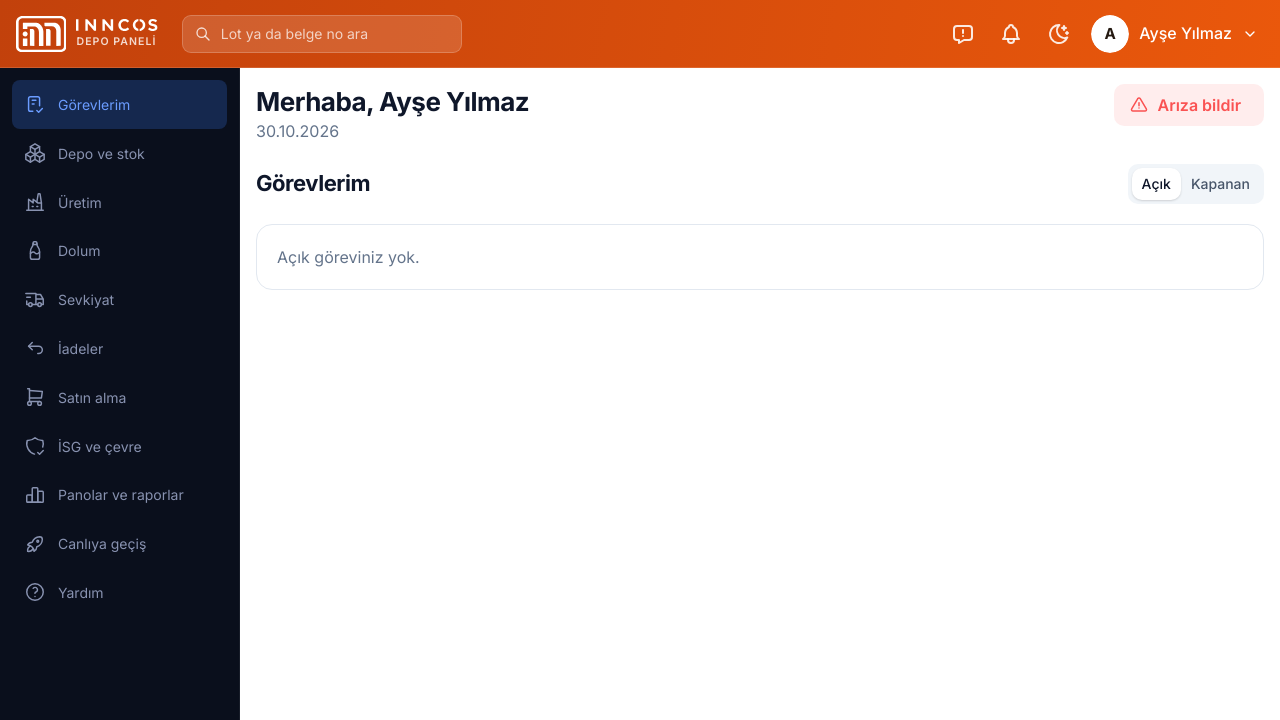
Scenario: bildirim zili › bağlantı yokken çevrimdışı işaretini gösterir
Click the button named "Bildirimler" at (1011, 34), box [989,12,1033,56]
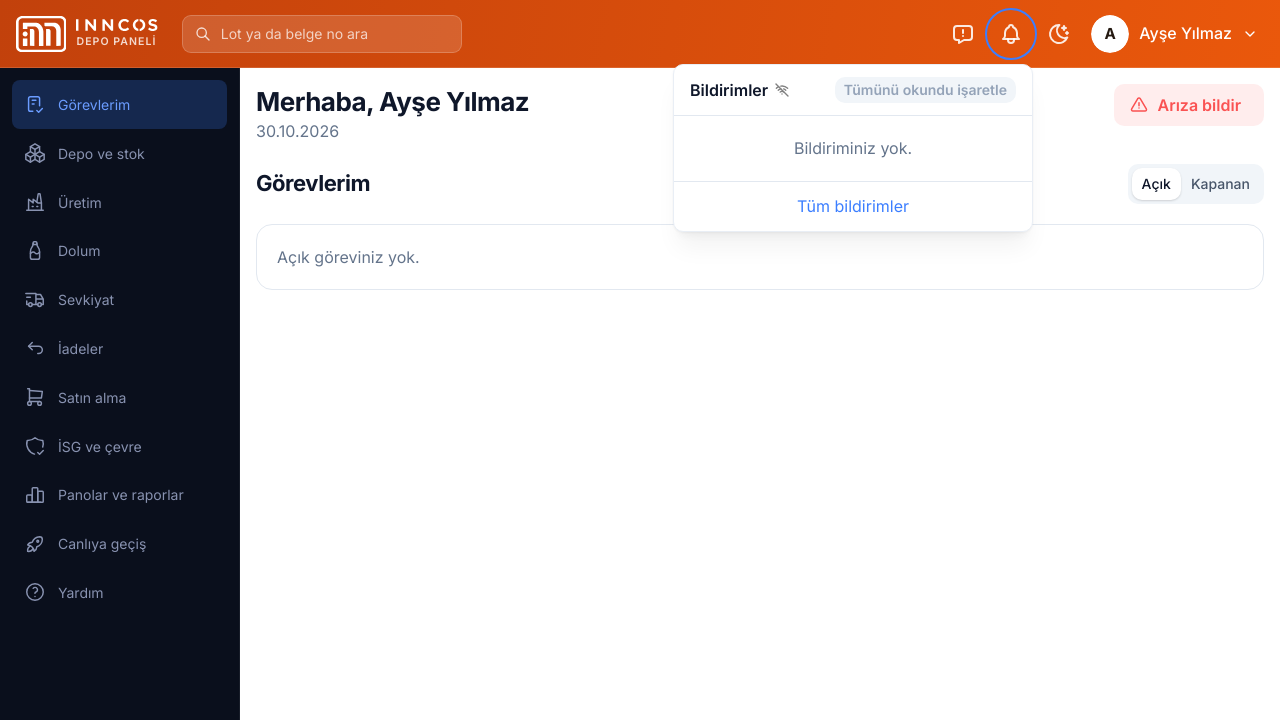
Now the icon named "Anlık bağlantı yok; bildirimler 30 sn'de bir yenileniyor." is shown, box [774,82,790,98]
